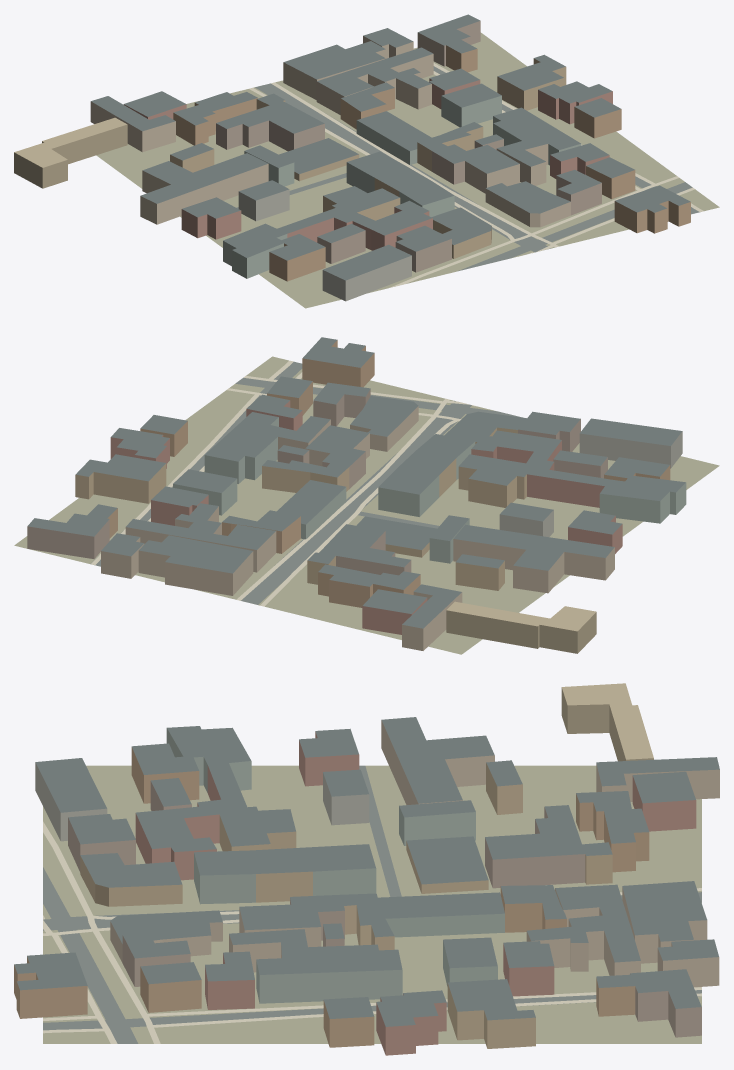
The model's file is sector-0_-3.glb.
3 renders of one model, top to bottom at view 1: azimuth 30°, elevation 25°; view 2: azimuth 150°, elevation 25°; view 3: azimuth 270°, elevation 25°, orthographic. The views are drawn at different scales.
Parts seen in each view (by area): view 1: 0:-3-roof, 0:-3-facade, 0:-3-ground, 0:-3-road, 0:-3-masonry, 0:-3-paving; view 2: 0:-3-roof, 0:-3-facade, 0:-3-ground, 0:-3-road, 0:-3-masonry, 0:-3-paving; view 3: 0:-3-roof, 0:-3-facade, 0:-3-ground, 0:-3-road, 0:-3-paving, 0:-3-masonry.
Part boxes in pixels (x1,y1,x2,y2): 0:-3-roof: [91, 14, 690, 280]; 0:-3-facade: [90, 21, 690, 301]; 0:-3-ground: [96, 32, 719, 308]; 0:-3-road: [236, 66, 699, 271]; 0:-3-masonry: [14, 117, 127, 188]; 0:-3-paving: [249, 63, 703, 287]; 0:-3-roof: [28, 337, 685, 628]; 0:-3-facade: [27, 340, 686, 650]; 0:-3-ground: [14, 356, 719, 654]; 0:-3-road: [91, 361, 522, 604]; 0:-3-masonry: [446, 601, 596, 653]; 0:-3-paving: [91, 360, 477, 606]; 0:-3-roof: [14, 717, 719, 1026]; 0:-3-facade: [14, 720, 719, 1055]; 0:-3-ground: [43, 765, 701, 1043]; 0:-3-road: [43, 765, 701, 1043]; 0:-3-paving: [43, 821, 701, 1043]; 0:-3-masonry: [561, 683, 653, 761].
Size of the model in its own units: 247 by 9.6 by 214.
